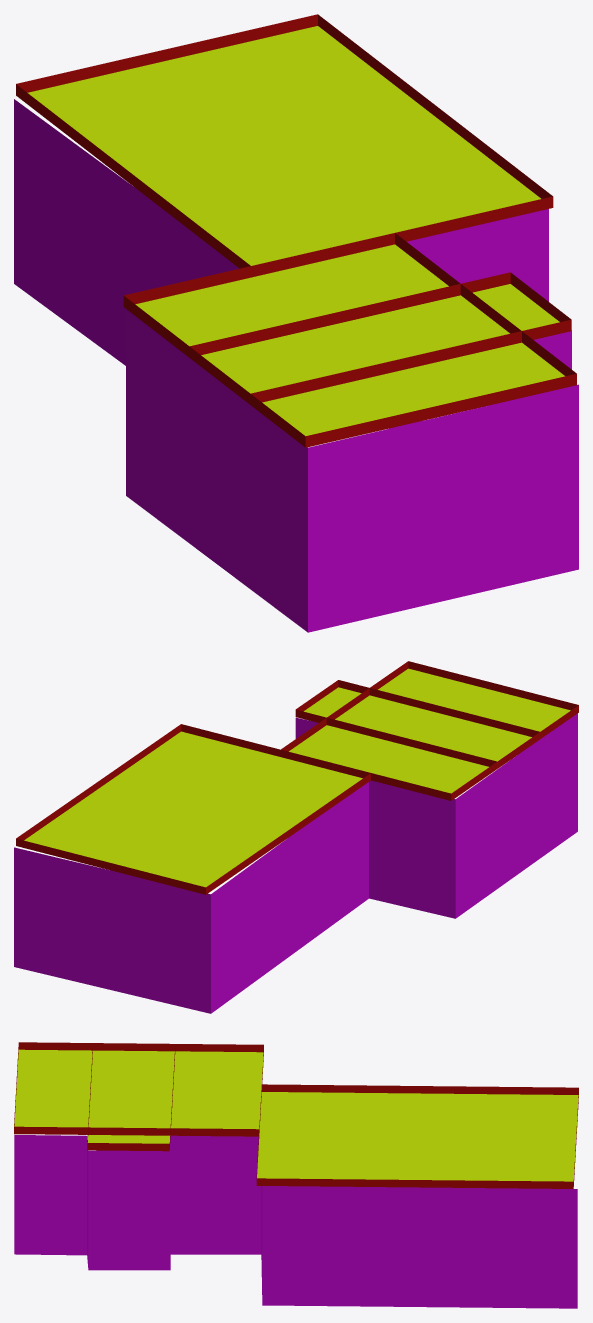
The model's file is vzc_20.glb.
The picture shows the model from 3 angles, top to bottom: view 1: azimuth 30°, elevation 25°; view 2: azimuth 150°, elevation 25°; view 3: azimuth 270°, elevation 25°; orthographic projection. The views are drawn at different scales.
Visible parts, largest first — view 1: vzc_20; view 2: vzc_20; view 3: vzc_20.
Part boxes in pixels (x1,y1,x2,y2): vzc_20: [14, 14, 578, 632]; vzc_20: [14, 661, 578, 1013]; vzc_20: [14, 1042, 578, 1308].
Bounding box in the file's own units: 14.02 × 5.96 × 24.03.
